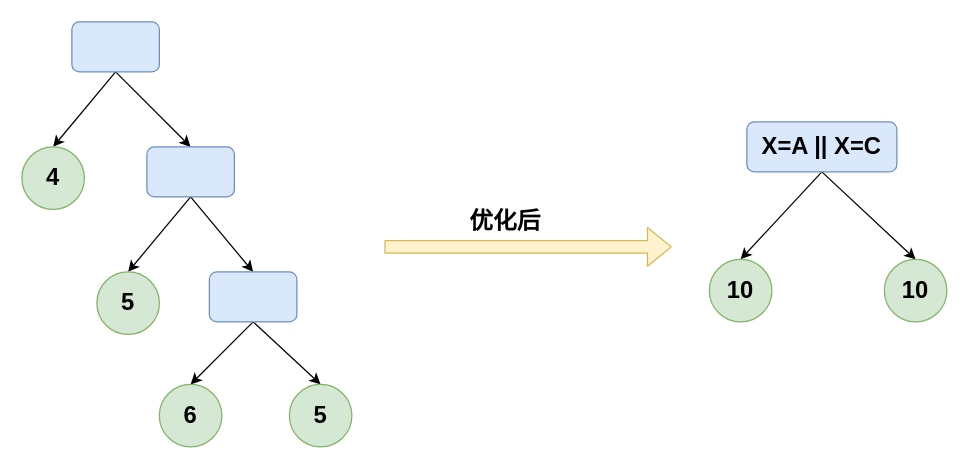
This 969x469 diagram has some shape labels left out. The centre of each missing label's shape, as x and y in pixels:
"X=A" goes at point 115,46.
"X=B" goes at point 190,171.
"X=C" goes at point 252,296.
